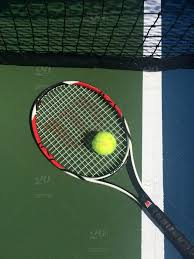tennis_ball: (91, 131, 116, 156)
